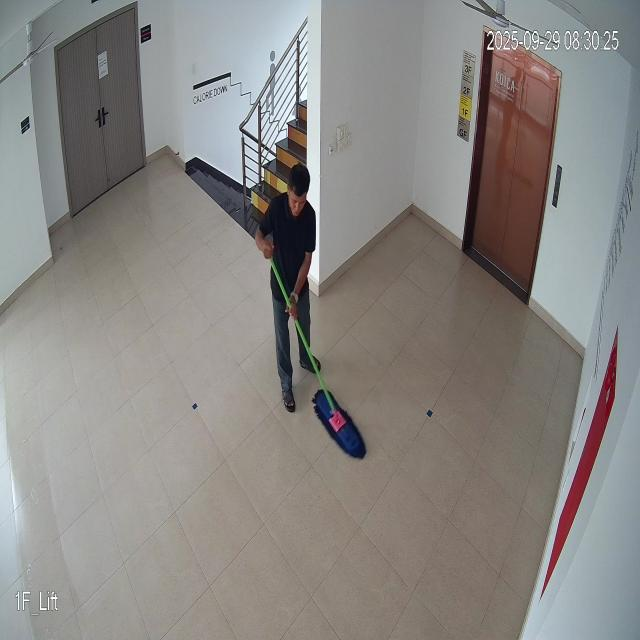face: (284, 162, 312, 220)
